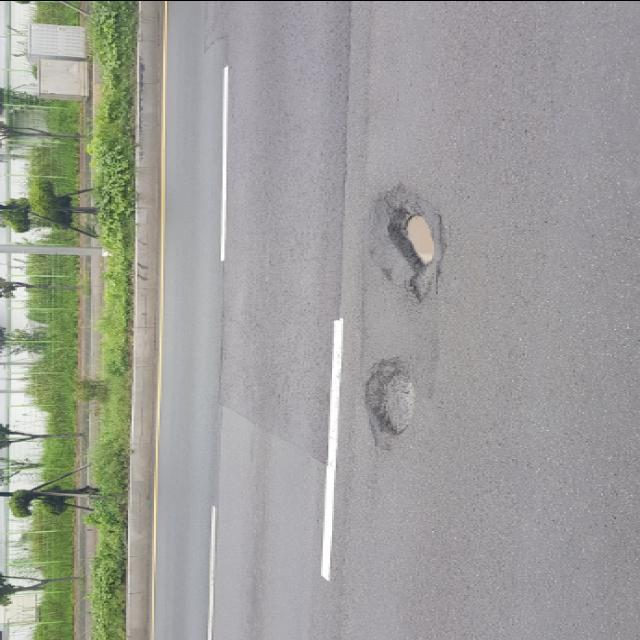pothole: (350, 205, 470, 291), (348, 358, 437, 448)
